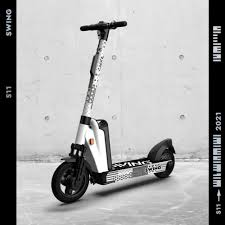kick_board: (52, 21, 174, 201)
kick_body: (114, 160, 153, 178)
kick_handler: (80, 21, 128, 39)
kick_neck: (78, 43, 107, 140)
kick_wheel: (52, 157, 88, 203), (155, 149, 175, 177)
